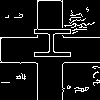H: (25, 25, 70, 61)
